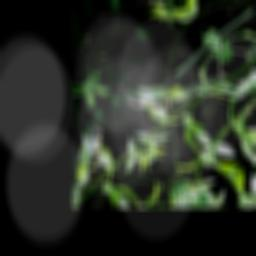Cuckoo: (120, 35, 227, 136)
